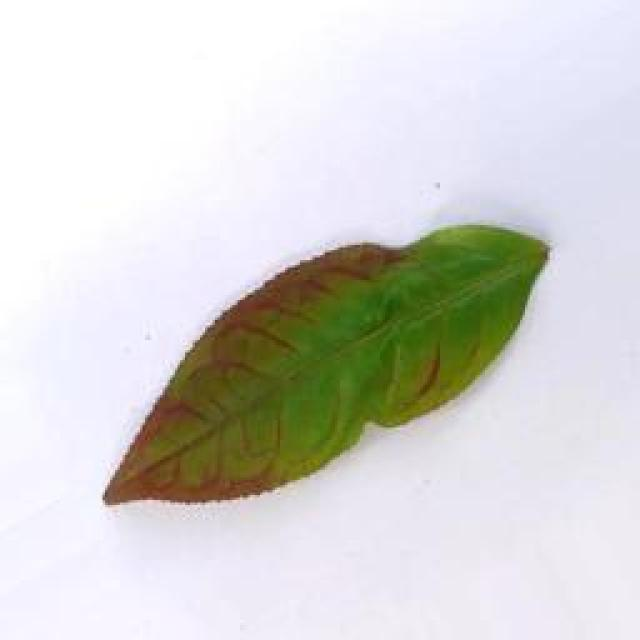Red Leaf Spot: (106, 218, 554, 515)
